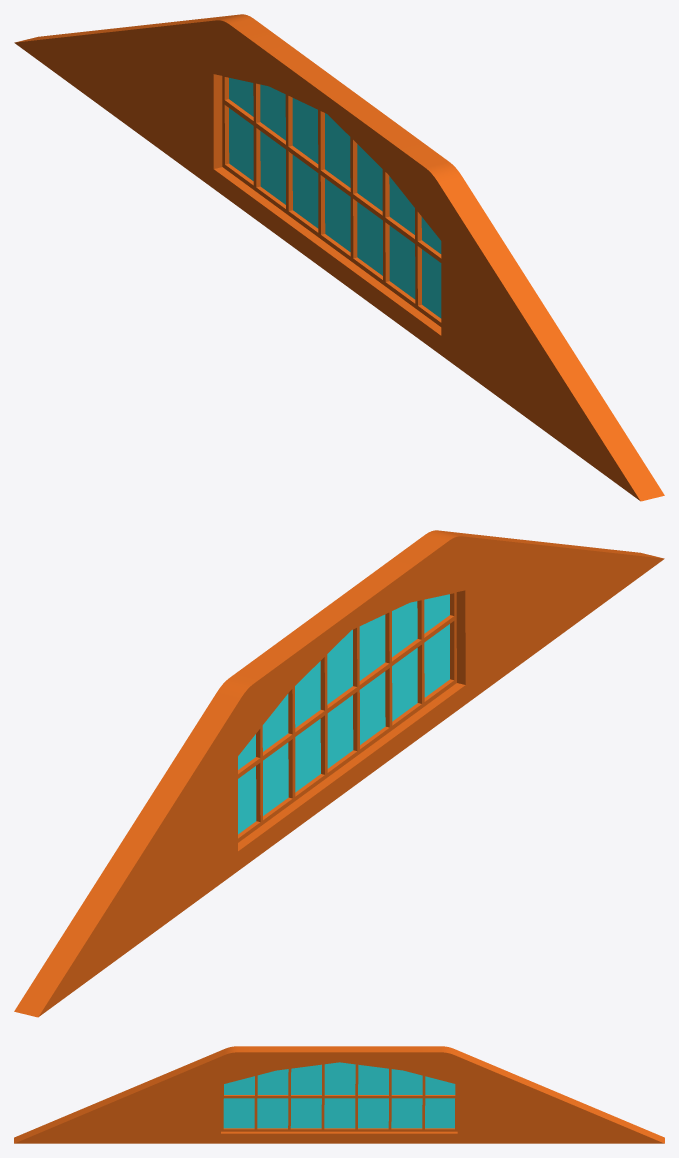
Rendered from Mur_Usine2emeEtage.fbx.
3 views of the same model, one above another, from view 1: azimuth 30°, elevation 25°; view 2: azimuth 150°, elevation 25°; view 3: azimuth 270°, elevation 25° (orthographic). The views are drawn at different scales.
Visible parts, largest first — view 1: Mur_Usine2emeEtage; view 2: Mur_Usine2emeEtage; view 3: Mur_Usine2emeEtage.
Boxes of the visible parts, <box> form: Mur_Usine2emeEtage: <box>14,14,664,501</box>; Mur_Usine2emeEtage: <box>14,530,664,1017</box>; Mur_Usine2emeEtage: <box>14,1046,664,1143</box>.
Bounding box in the file's own units: 40 × 279 × 1800.
